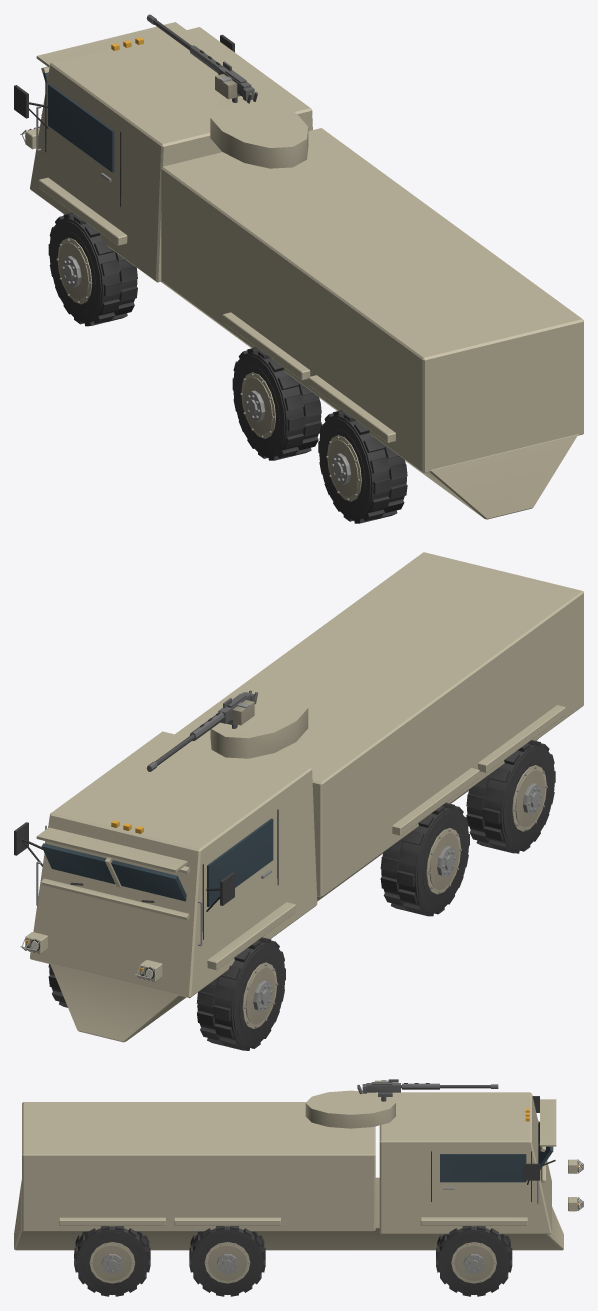
Rendered from rus_mrap_tyk.glb.
The picture shows the model from 3 angles, top to bottom: view 1: azimuth 30°, elevation 25°; view 2: azimuth 150°, elevation 25°; view 3: azimuth 270°, elevation 25°; orthographic projection. The views are drawn at different scales.
Parts seen in each view (by area): view 1: body, wheel_4, wheel_2, wheel_0, turret, barrel; view 2: body, wheel_2, wheel_4, wheel_0, turret, barrel; view 3: body, wheel_3, wheel_5, wheel_1, turret, barrel.
Part boxes in pixels (left/top/right/bottom): body: left=14, top=22, right=583, bottom=519; wheel_4: left=318, top=410, right=407, bottom=523; wheel_2: left=232, top=347, right=321, bottom=460; wheel_0: left=48, top=212, right=137, bottom=326; turret: left=210, top=96, right=308, bottom=168; barrel: left=146, top=14, right=257, bottom=103; body: left=14, top=552, right=583, bottom=1042; wheel_2: left=380, top=802, right=469, bottom=916; wheel_4: left=466, top=740, right=555, bottom=853; wheel_0: left=196, top=937, right=285, bottom=1050; turret: left=210, top=686, right=308, bottom=758; barrel: left=146, top=690, right=257, bottom=771; body: left=14, top=1092, right=583, bottom=1250; wheel_3: left=189, top=1226, right=265, bottom=1296; wheel_5: left=74, top=1226, right=150, bottom=1296; wheel_1: left=436, top=1226, right=512, bottom=1296; turret: left=305, top=1090, right=395, bottom=1128; barrel: left=357, top=1079, right=498, bottom=1101.
Bounding box in the file's own units: 2.55 × 3.27 × 8.99.
